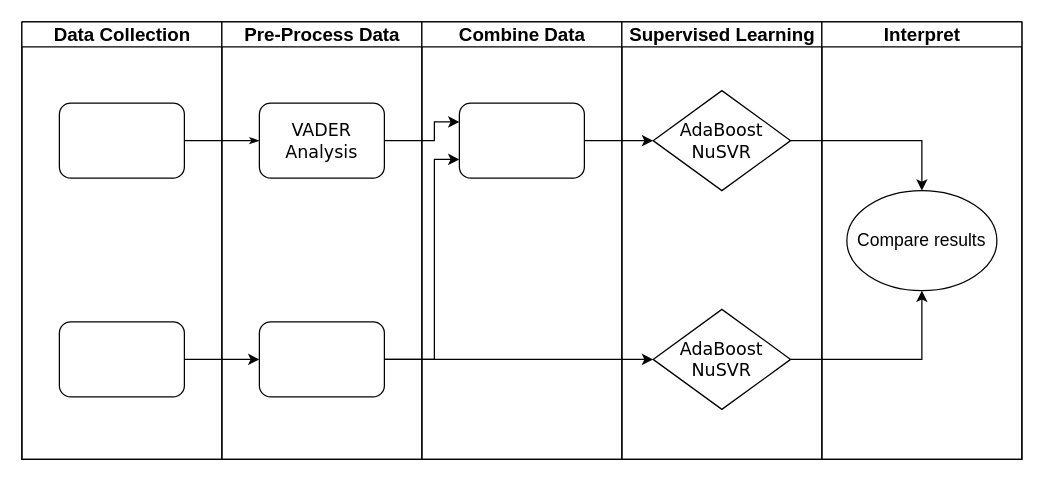
This 1044x481 diagram has some shape labels left out. The centre of each missing label's shape, as x and y in pixels:
"Access stock indexes" belongs at point 121,359.
"Access tweets from Twitter" belongs at point 121,140.
"Combine data using lag-steps" belongs at point 521,140.
"PCA Analysis" belongs at point 321,359.
